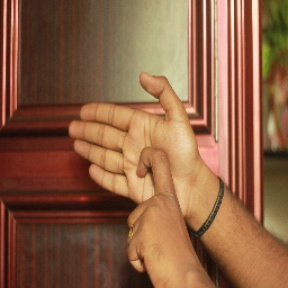R: (65, 70, 214, 265)
